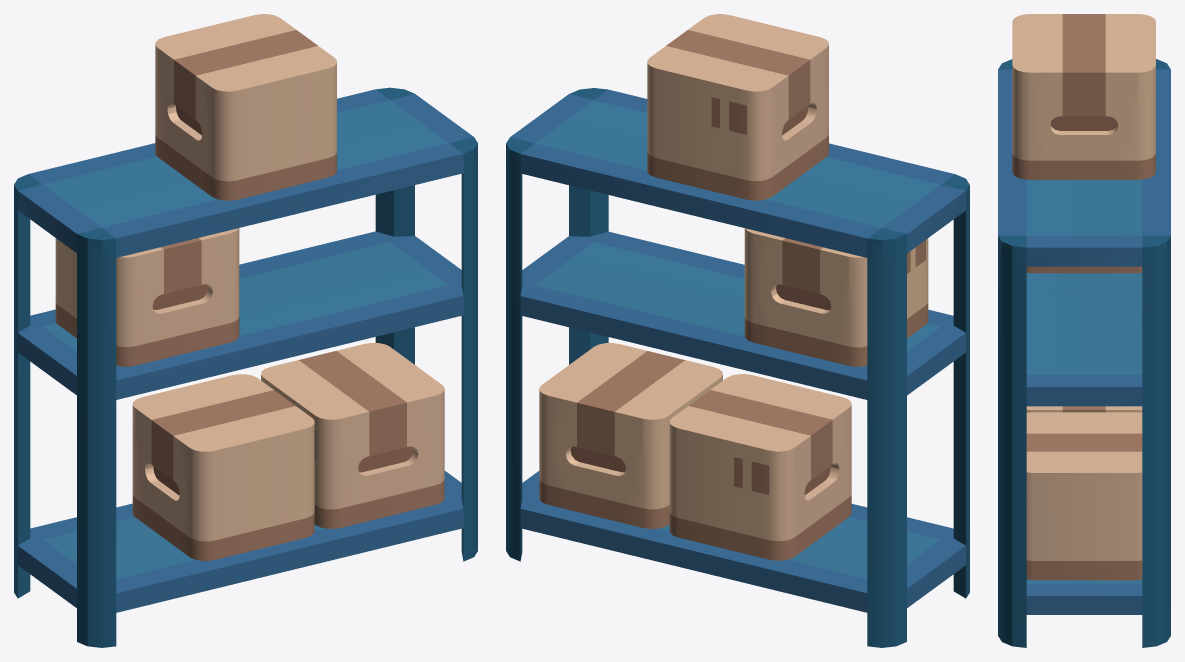
The model's file is rack_utillity.fbx.
3 views of the same model, side by side, from view 1: azimuth 30°, elevation 25°; view 2: azimuth 150°, elevation 25°; view 3: azimuth 270°, elevation 25° (orthographic).
Parts seen in each view (by area): view 1: rack_utility; view 2: rack_utility; view 3: rack_utility.
Boxes of the visible parts, x1=… form: rack_utility: x1=14, y1=14, x2=477, y2=647; rack_utility: x1=506, y1=14, x2=969, y2=647; rack_utility: x1=998, y1=14, x2=1170, y2=647.
Bounding box in the file's own units: 68.65 × 85.73 × 26.34.
